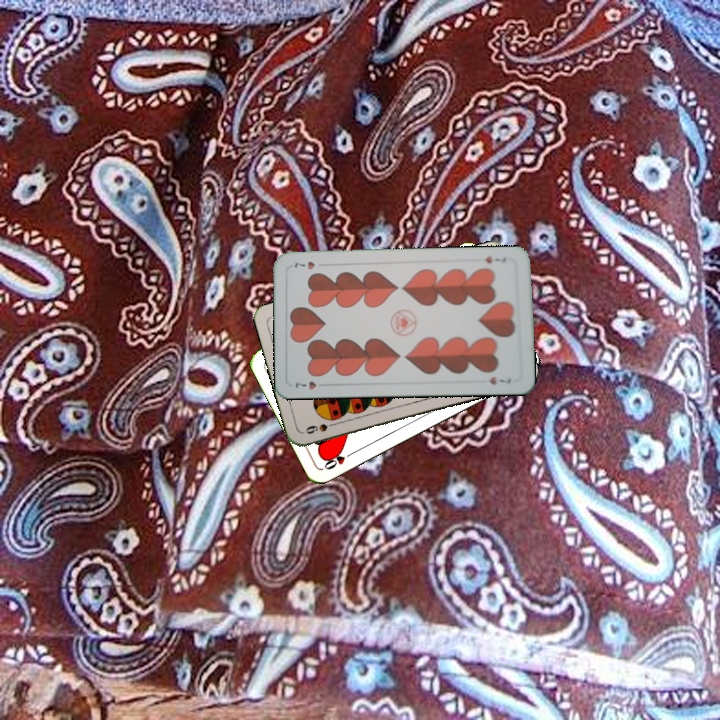H7: (292, 377, 330, 392), (482, 252, 509, 266)
HO: (320, 447, 358, 472)
S9: (301, 418, 341, 437)
